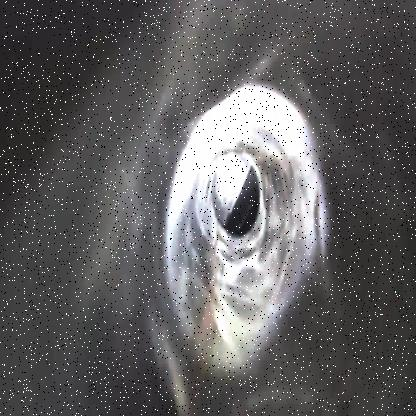Crack: (166, 121, 305, 320)
